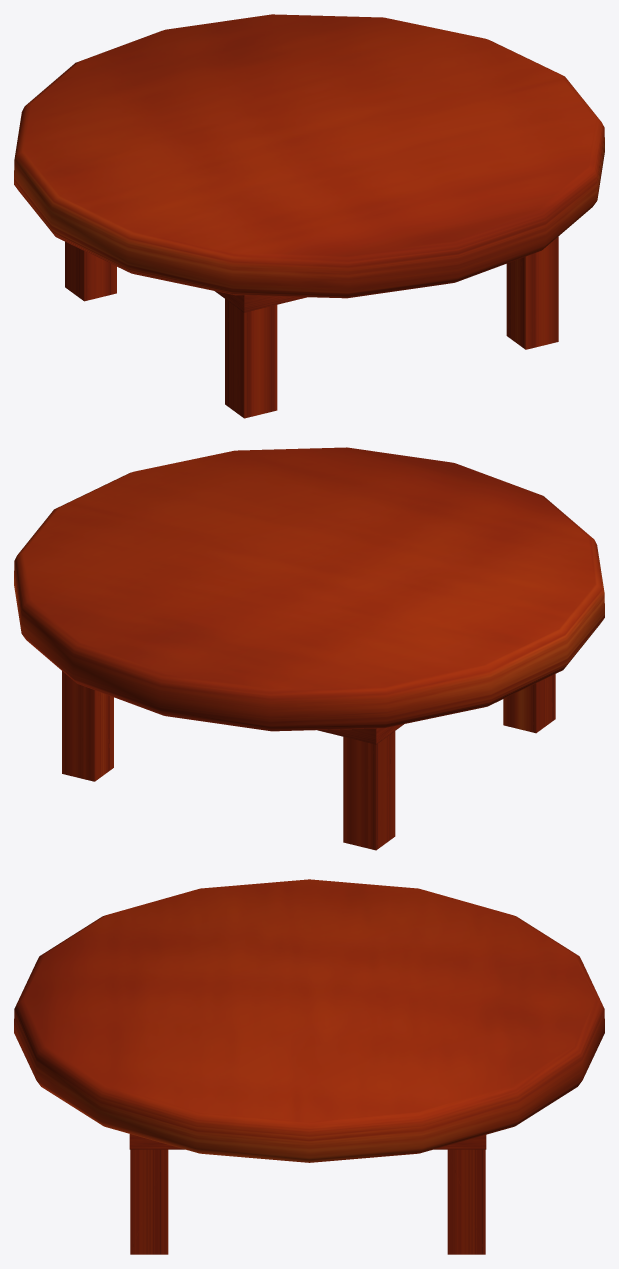
Rendered from dai_01_fbx.fbx.
The picture shows the model from 3 angles, top to bottom: view 1: azimuth 30°, elevation 25°; view 2: azimuth 150°, elevation 25°; view 3: azimuth 270°, elevation 25°; orthographic projection.
Parts seen in each view (by area): view 1: Line001, Box002, Box001; view 2: Line001, Box002, Box001; view 3: Line001, Box002, Box001.
Part boxes in pixels (left/top/right/bottom): Line001: left=14, top=14, right=604, bottom=298; Box002: left=65, top=236, right=558, bottom=418; Box001: left=215, top=291, right=306, bottom=312; Line001: left=14, top=447, right=604, bottom=731; Box002: left=62, top=671, right=555, bottom=850; Box001: left=317, top=724, right=403, bottom=744; Line001: left=14, top=879, right=604, bottom=1162; Box002: left=130, top=1149, right=485, bottom=1254; Box001: left=129, top=1134, right=486, bottom=1149.
Size of the model in its own units: 152 by 50.65 by 152.
